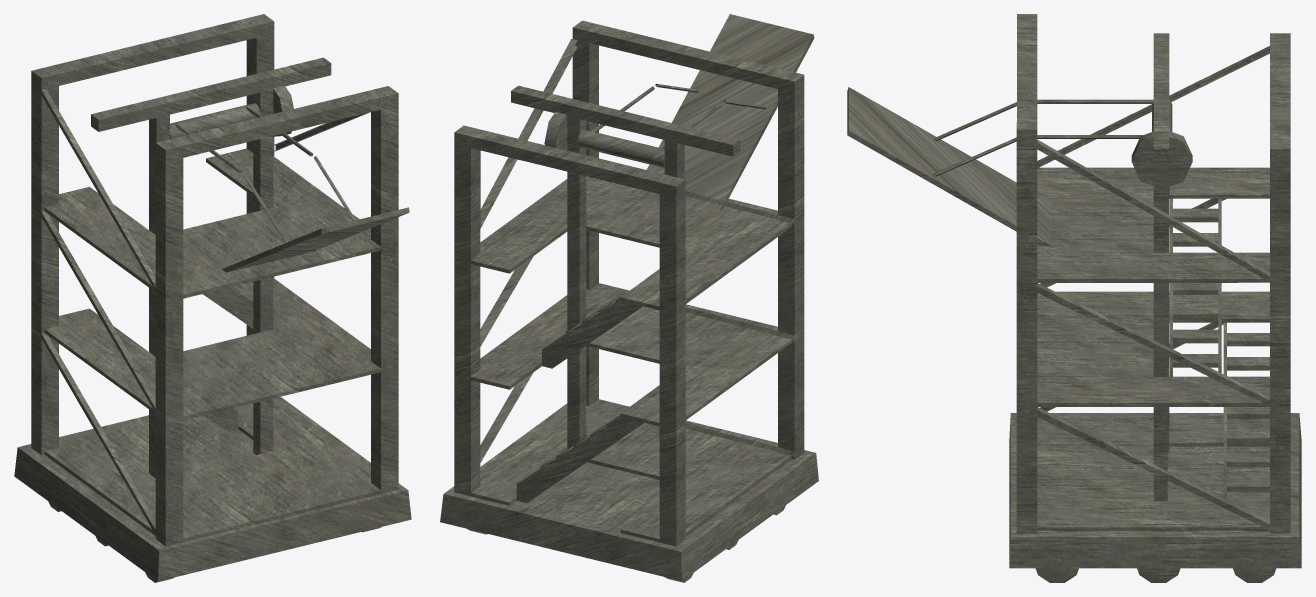
The model's file is sagew2.glb.
The picture shows the model from 3 angles, left to right: view 1: azimuth 30°, elevation 25°; view 2: azimuth 150°, elevation 25°; view 3: azimuth 270°, elevation 25°; orthographic projection. The views are drawn at different scales.
Parts seen in each view (by area): view 1: sagew2-col; view 2: sagew2-col; view 3: sagew2-col.
Part boxes in pixels (left/top/right/bottom): sagew2-col: left=14, top=14, right=411, bottom=582; sagew2-col: left=440, top=14, right=818, bottom=582; sagew2-col: left=847, top=14, right=1301, bottom=582.
Bounding box in the file's own units: 6.19 × 10.4 × 9.43.
1 material, 1 textured.
